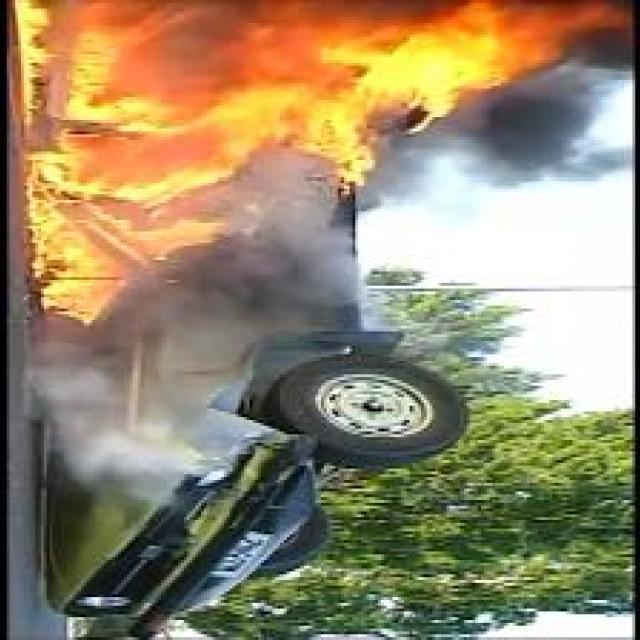Fire: (11, 0, 632, 326)
